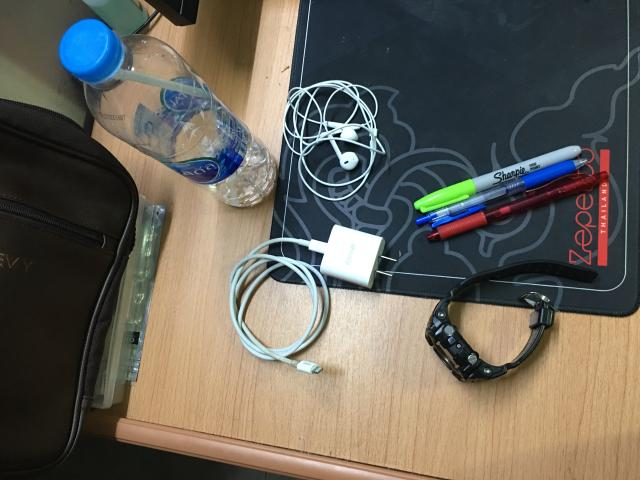Pen: (414, 158, 610, 241), (415, 145, 582, 213)
Watch: (425, 261, 590, 381)
bottle: (60, 20, 276, 206)
wire: (228, 226, 383, 380), (284, 80, 385, 201)
